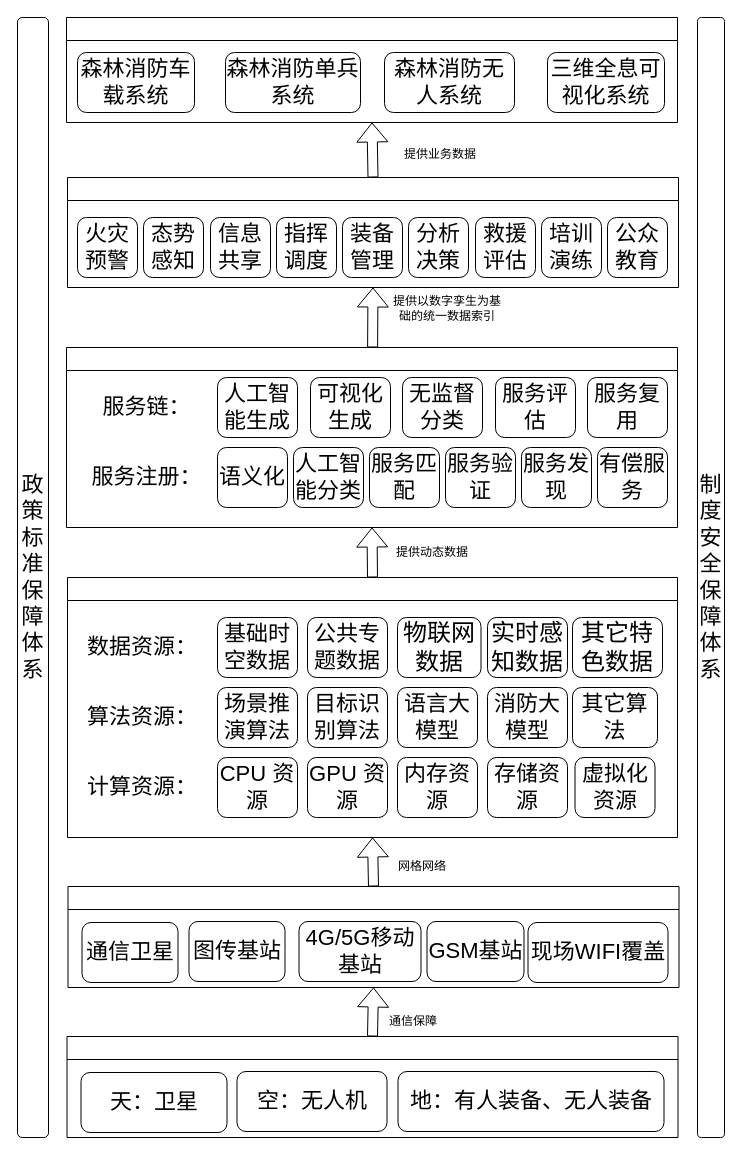
Image size: 742x1155. Some labels were removed from this diagram. The shapes that lost their labels are listed below. From the top down, each one's box as (x1, y1, x2, y2) in pixels, then its label:
(66, 16, 678, 122): 用户层
(66, 176, 678, 288): 应用层
(66, 346, 678, 528): 时空大数据平台
(66, 576, 678, 838): 时空大数据资源池
(67, 886, 679, 988): 网络传输
(66, 1036, 678, 1138): 数据感知感知
